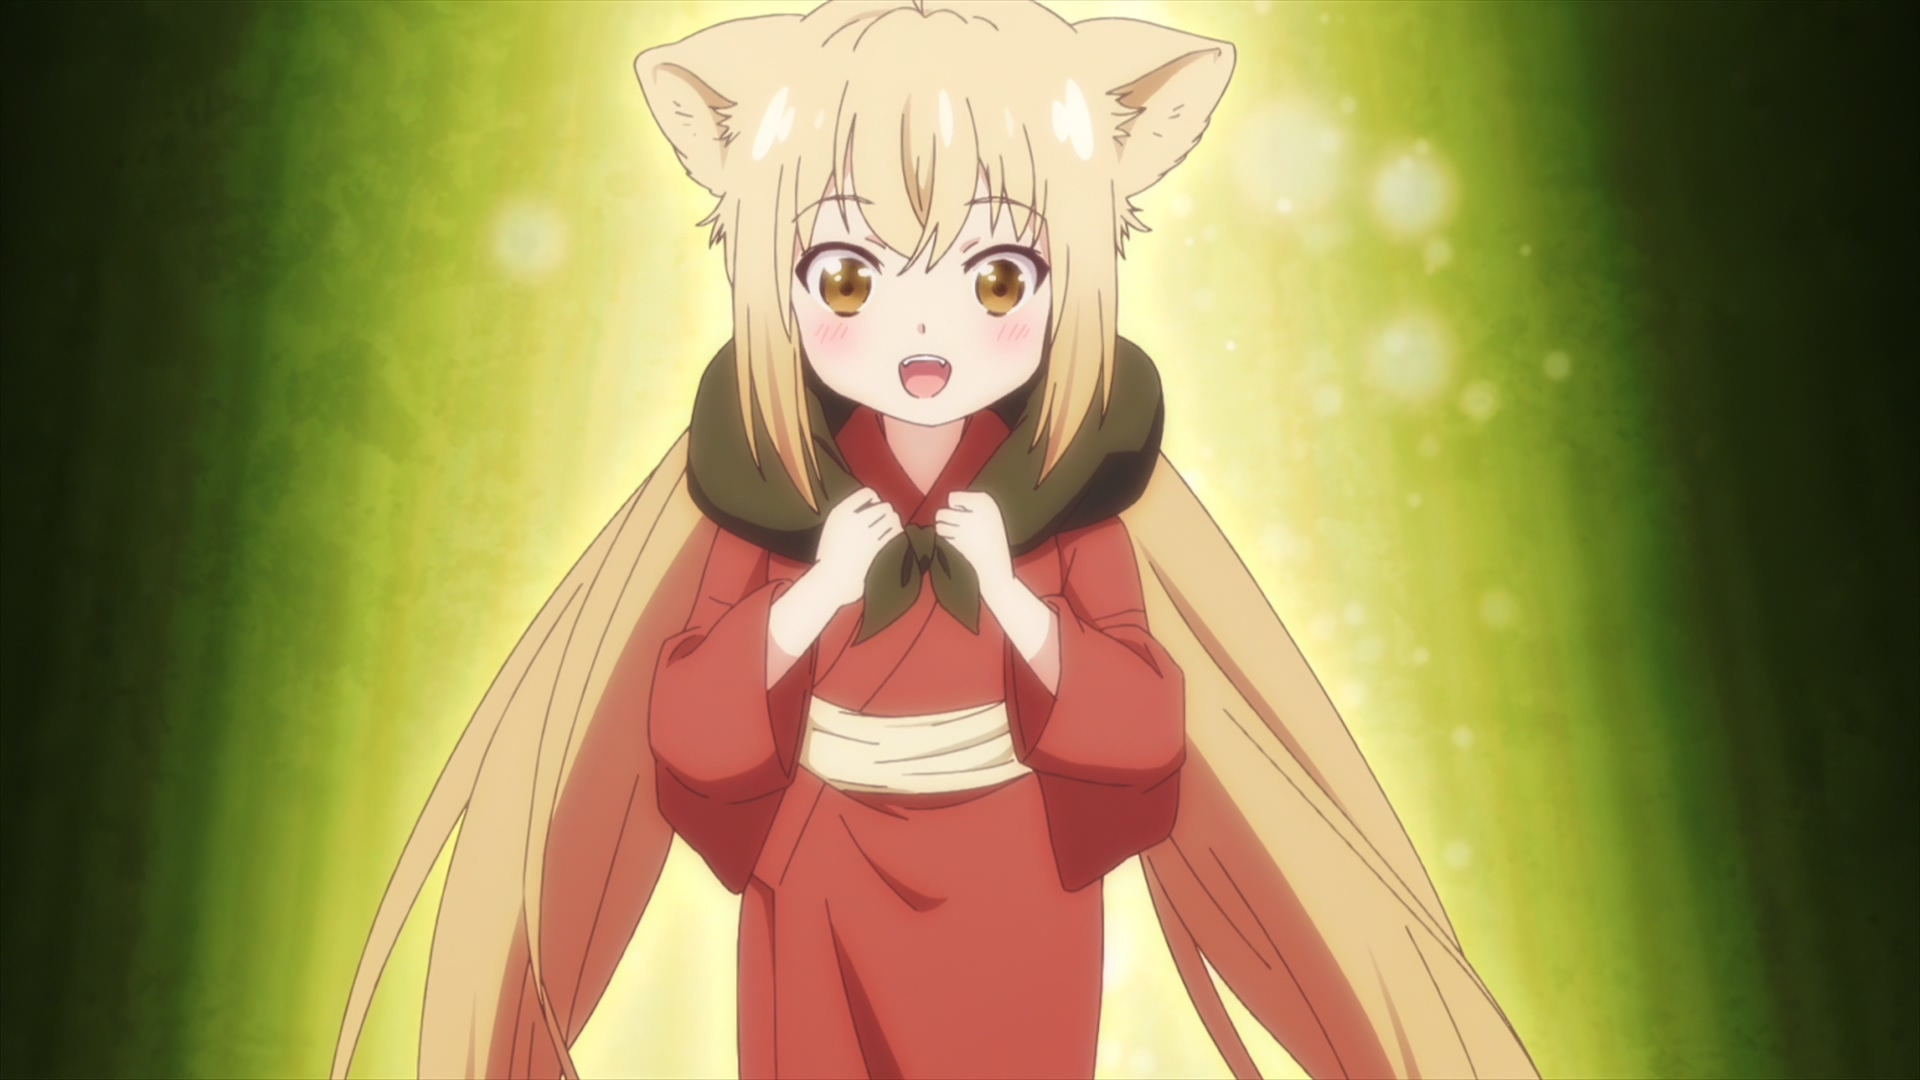柚: (330, 1, 1545, 1080)
